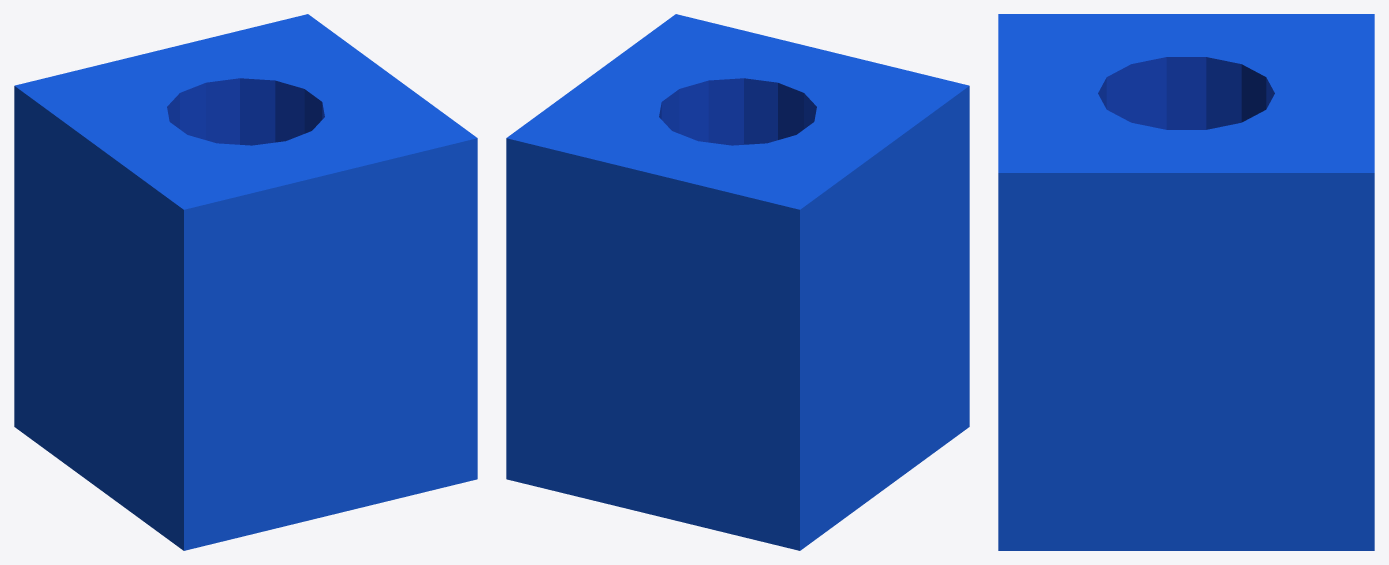
Rendered from cubesphere.fbx.
3 renders of one model, left to right at view 1: azimuth 30°, elevation 25°; view 2: azimuth 150°, elevation 25°; view 3: azimuth 270°, elevation 25°, orthographic. The views are drawn at different scales.
Visible parts, largest first — view 1: CubeSphere; view 2: CubeSphere; view 3: CubeSphere.
Boxes of the visible parts, <box> form: CubeSphere: <box>14,14,477,550</box>; CubeSphere: <box>506,14,969,550</box>; CubeSphere: <box>998,14,1374,550</box>.
Bounding box in the file's own units: 425 × 471 × 425.
